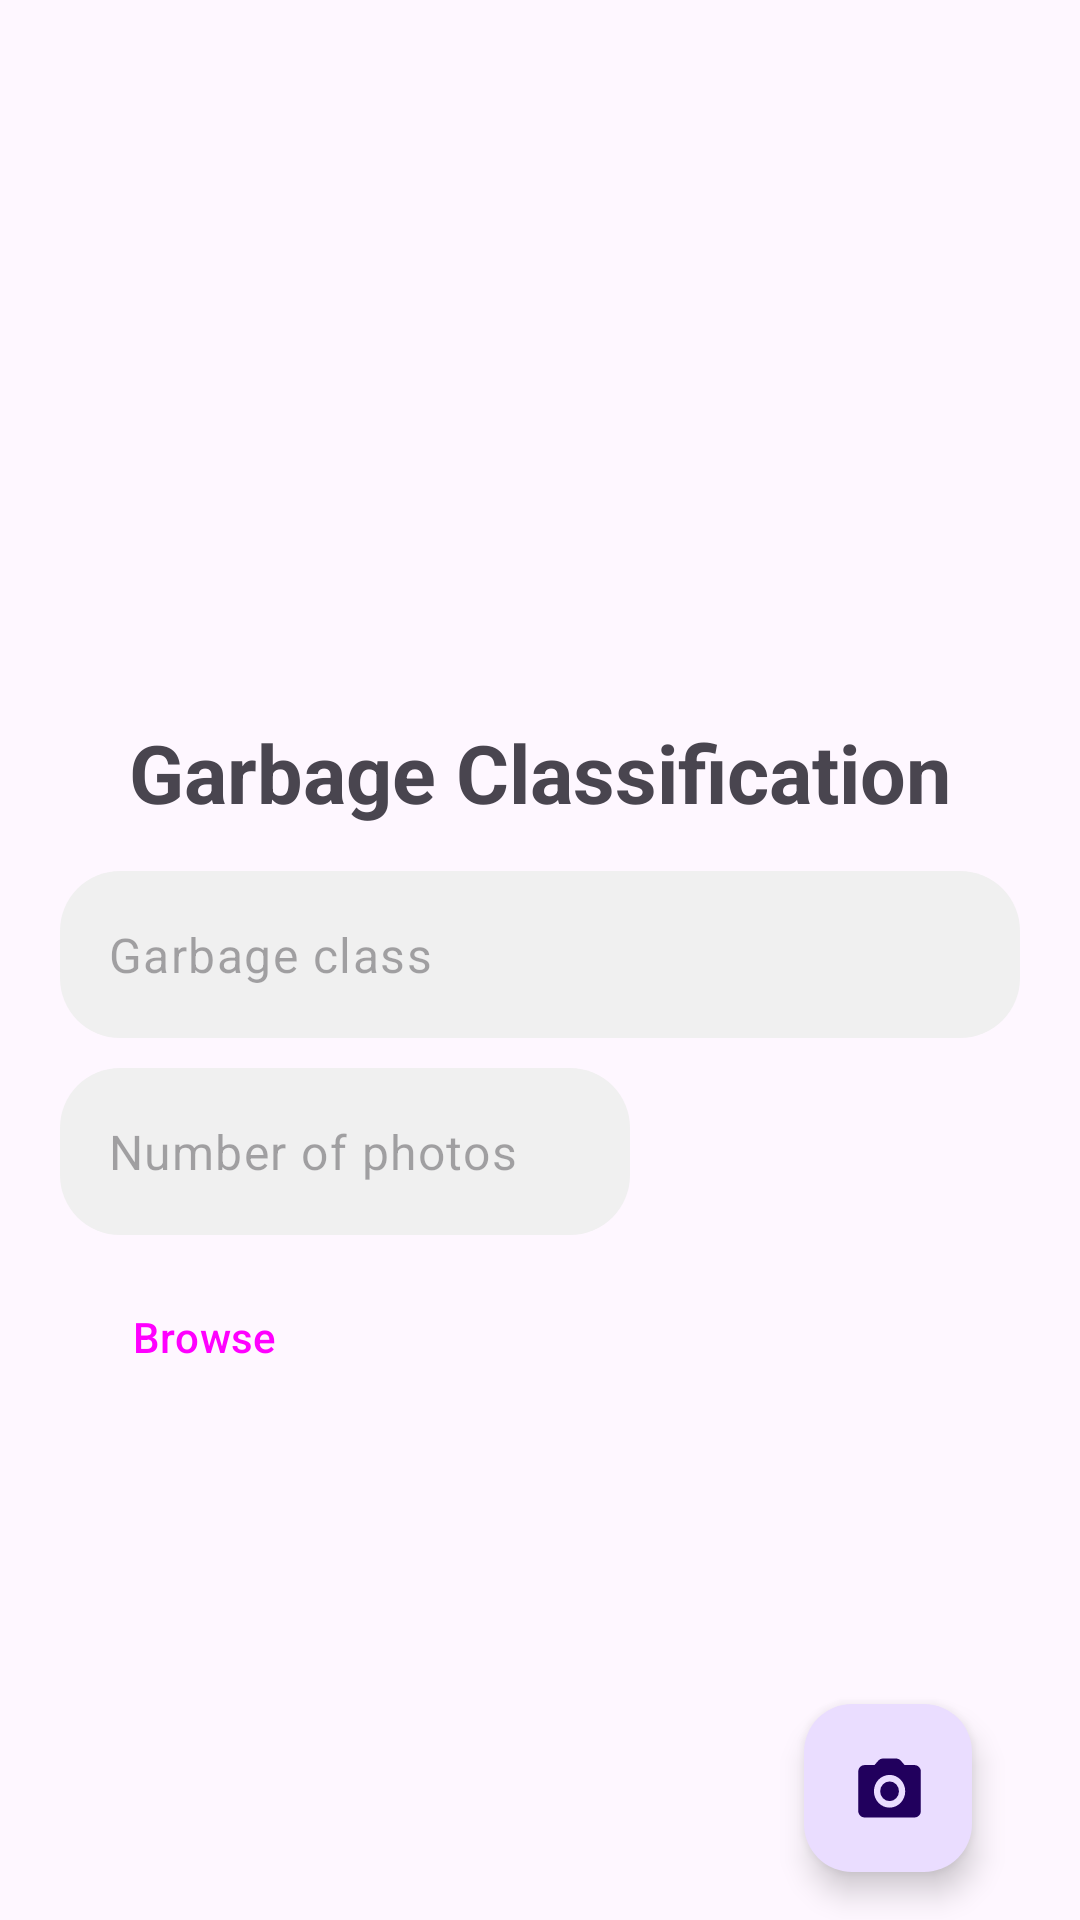

Where icons sit on this 1080 × 1920 app screen, as (x1, y1, x2, y2):
camera: (804, 1704, 972, 1872)
